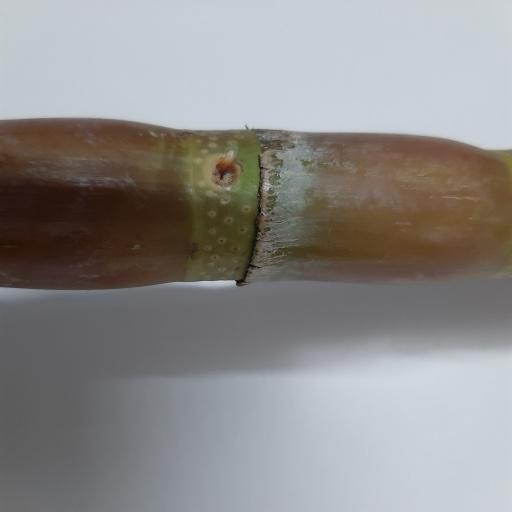Damage_Bud: (204, 151, 243, 194)
